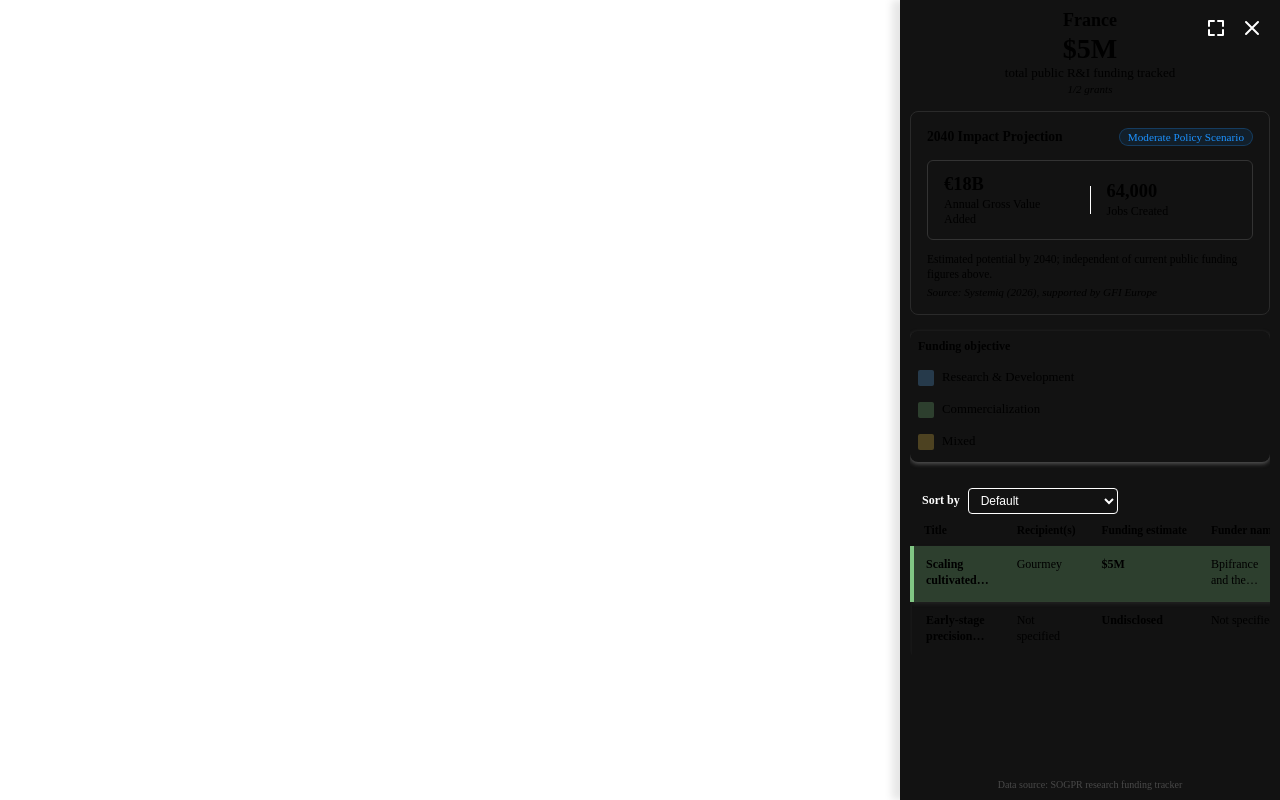
Test: CountryFundingPanel › expand/collapse › collapses the panel when the expand button is clicked again
Click the button with class "expand-button" at (1216, 28), box top-left (1200, 12), bottom-right (1232, 44)
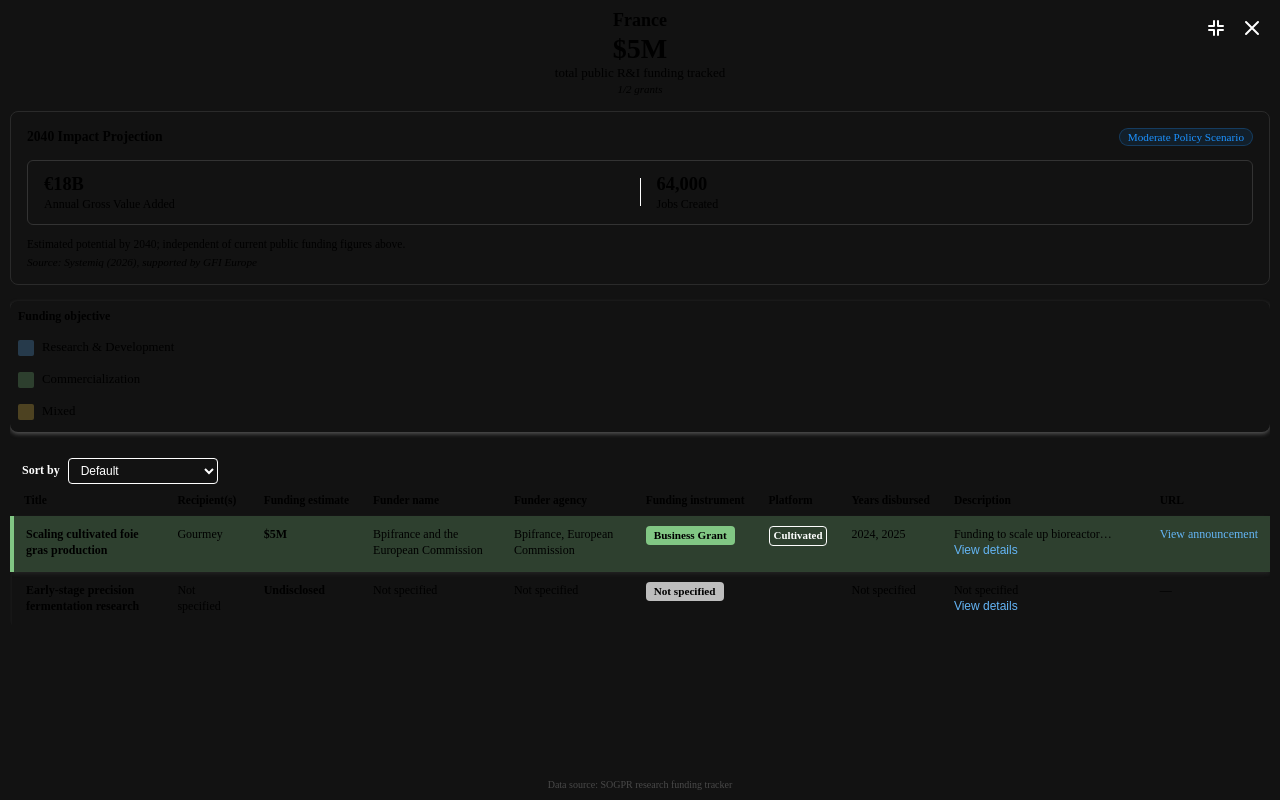
Click the button with class "expand-button" at (1216, 28), box top-left (1200, 12), bottom-right (1232, 44)
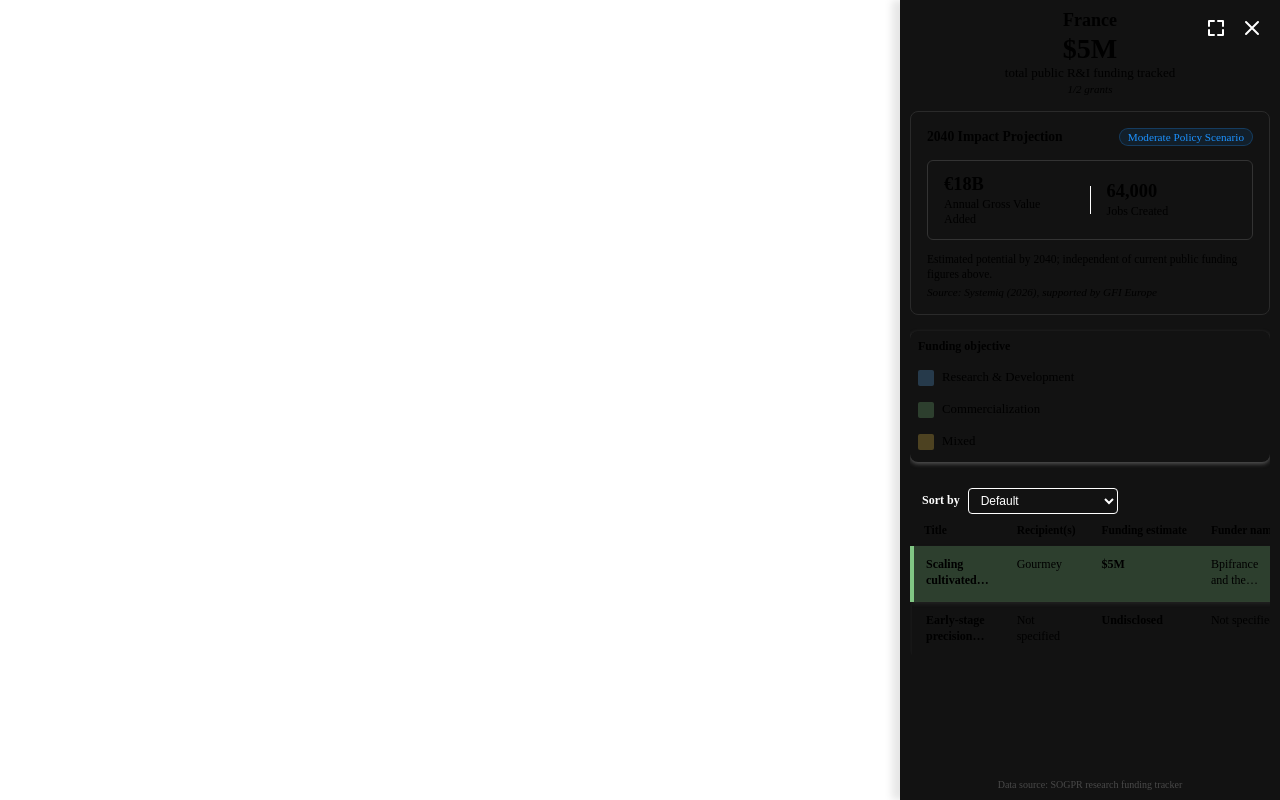
expect the button with class "expand-button" is collapsed: met, box top-left (1200, 12), bottom-right (1232, 44)
